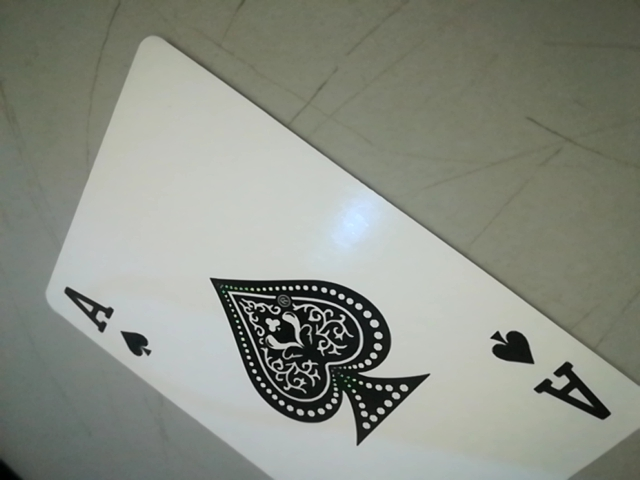ht a: (41, 281, 171, 370)
